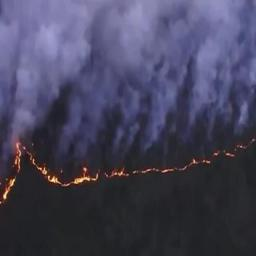Heavy smoke: (0, 0, 255, 177)
Medium fire: (0, 123, 255, 206)
